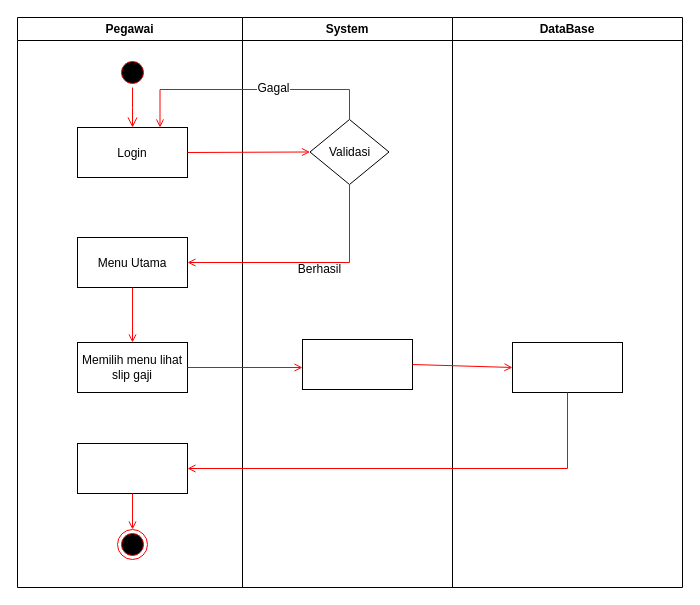
The diagram is 700 pixels wide and 605 high, and some of its shapes have lost their labels. Here are the shapes that lost their labels. From the top down, the box of each, then its label:
(302, 338, 412, 390): Memuat halaman slip gaji
(512, 342, 622, 392): Mengambil query Data slip gaji
(76, 442, 188, 494): Mengakses halaman slip gaji
